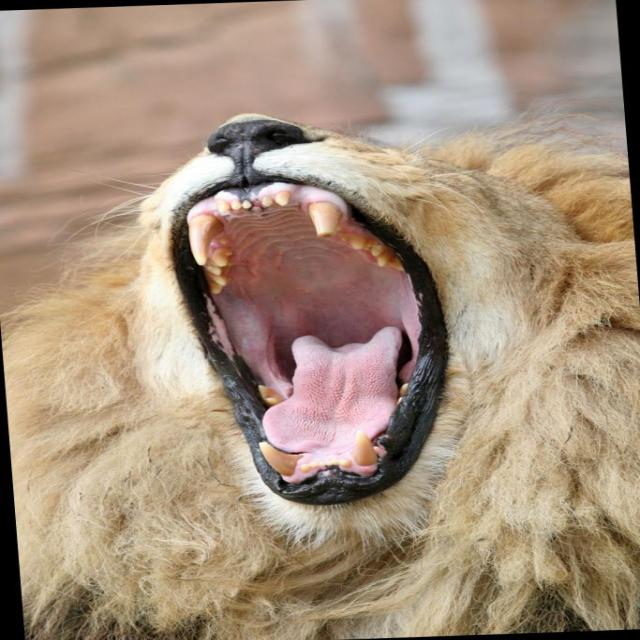Lion: (0, 90, 639, 639)
